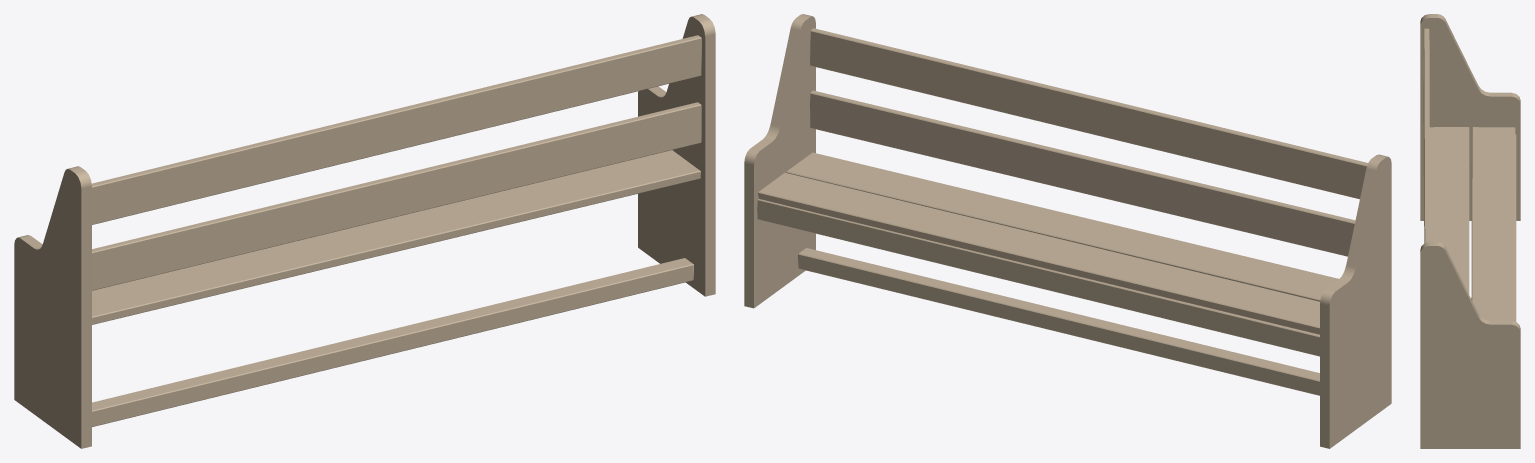
The model's file is pew.glb.
3 views of the same model, side by side, from view 1: azimuth 30°, elevation 25°; view 2: azimuth 150°, elevation 25°; view 3: azimuth 270°, elevation 25° (orthographic). The views are drawn at different scales.
Parts seen in each view (by area): view 1: static; view 2: static; view 3: static.
Part boxes in pixels (x1,y1,x2,y2): static: [14, 14, 715, 448]; static: [744, 14, 1391, 448]; static: [1420, 14, 1520, 448].
Bounding box in the file's own units: 2.4 × 0.98 × 0.44.
